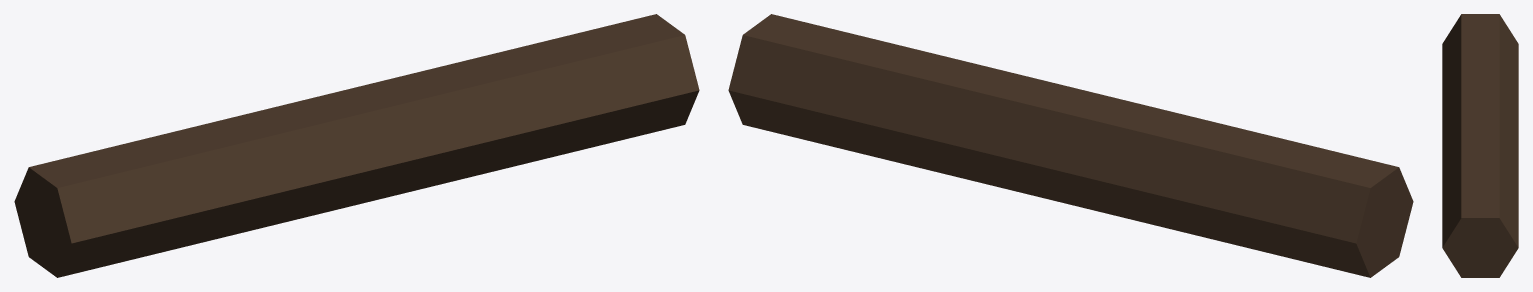
Rendered from log_mossy.glb.
3 views of the same model, side by side, from view 1: azimuth 30°, elevation 25°; view 2: azimuth 150°, elevation 25°; view 3: azimuth 270°, elevation 25° (orthographic). The views are drawn at different scales.
Visible parts, largest first — view 1: LogMossy; view 2: LogMossy; view 3: LogMossy.
Part boxes in pixels (x1,y1,x2,y2): LogMossy: [14, 14, 699, 277]; LogMossy: [728, 14, 1413, 277]; LogMossy: [1442, 14, 1518, 277].
Size of the model in its own units: 3.8 by 0.5196 by 0.6.
